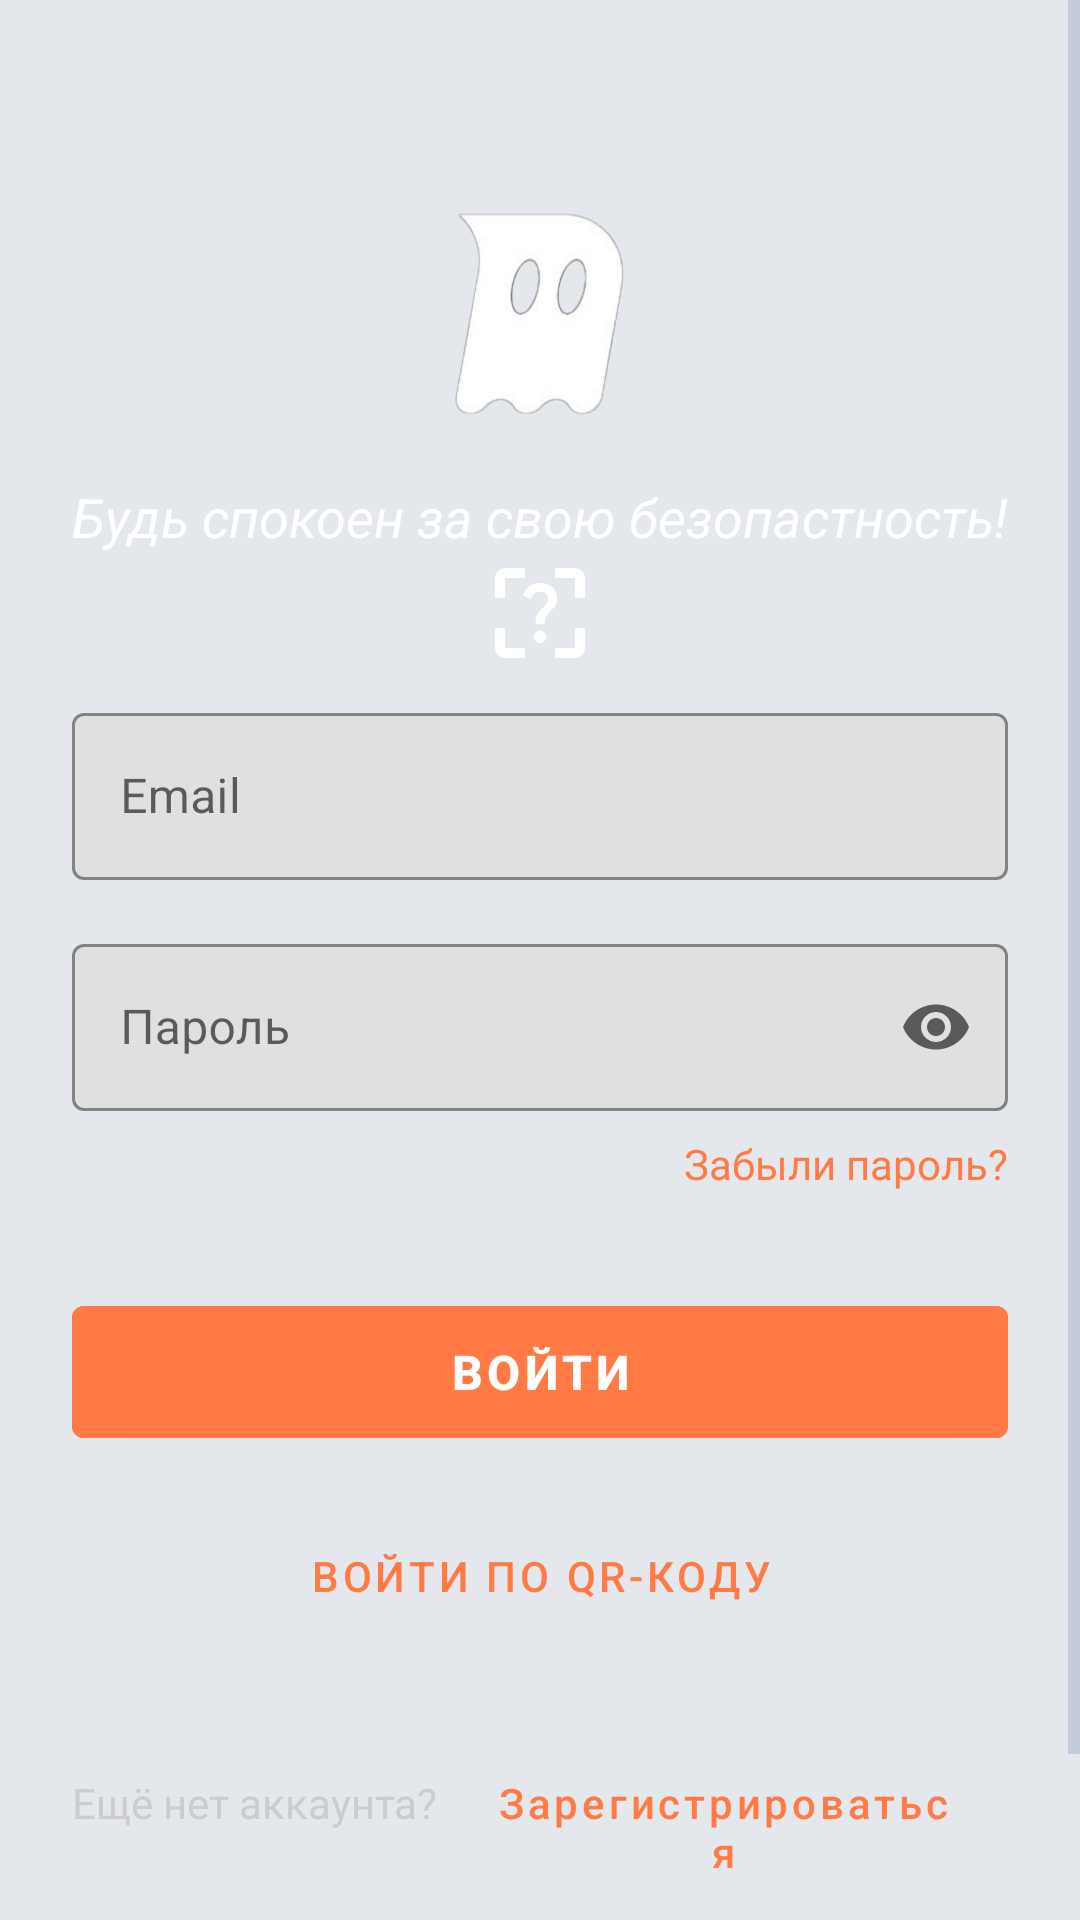

Point at icon controls on the screen. Image size 1080px×1920px, points as [x,y].
question: [540,613]
